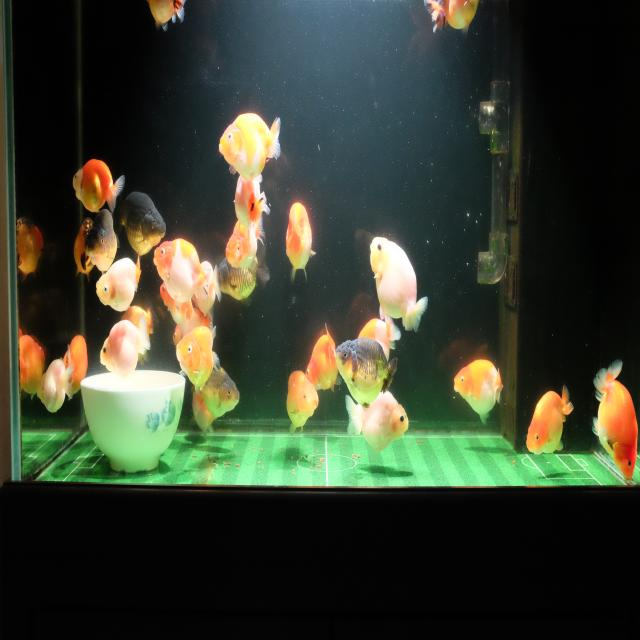Tilapia: (368, 234, 429, 335), (591, 360, 639, 485), (218, 109, 282, 186), (334, 338, 398, 410), (153, 237, 209, 309), (342, 393, 408, 454), (525, 383, 574, 457), (117, 188, 167, 258), (453, 358, 503, 426), (71, 156, 126, 216), (99, 315, 151, 378), (218, 247, 270, 306), (176, 323, 219, 394), (95, 252, 144, 314), (284, 198, 317, 287), (16, 215, 52, 288), (304, 324, 342, 392), (82, 208, 120, 276), (225, 213, 266, 275), (284, 367, 319, 439), (233, 166, 271, 232), (420, 0, 480, 41), (202, 362, 241, 421), (37, 356, 74, 415), (59, 330, 89, 401), (358, 316, 402, 362), (19, 326, 44, 401), (71, 220, 95, 286), (196, 260, 222, 318), (160, 281, 195, 324), (147, 0, 187, 35)
